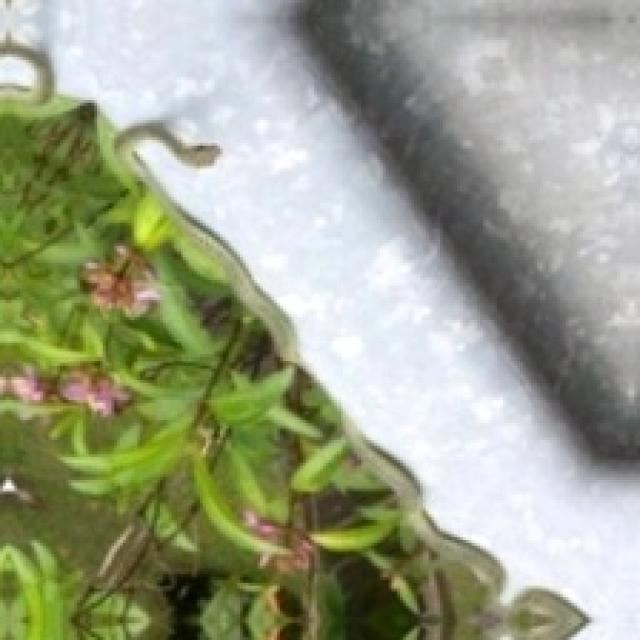paradise tree snake: (46, 0, 637, 637), (0, 40, 586, 637), (114, 123, 586, 637)
